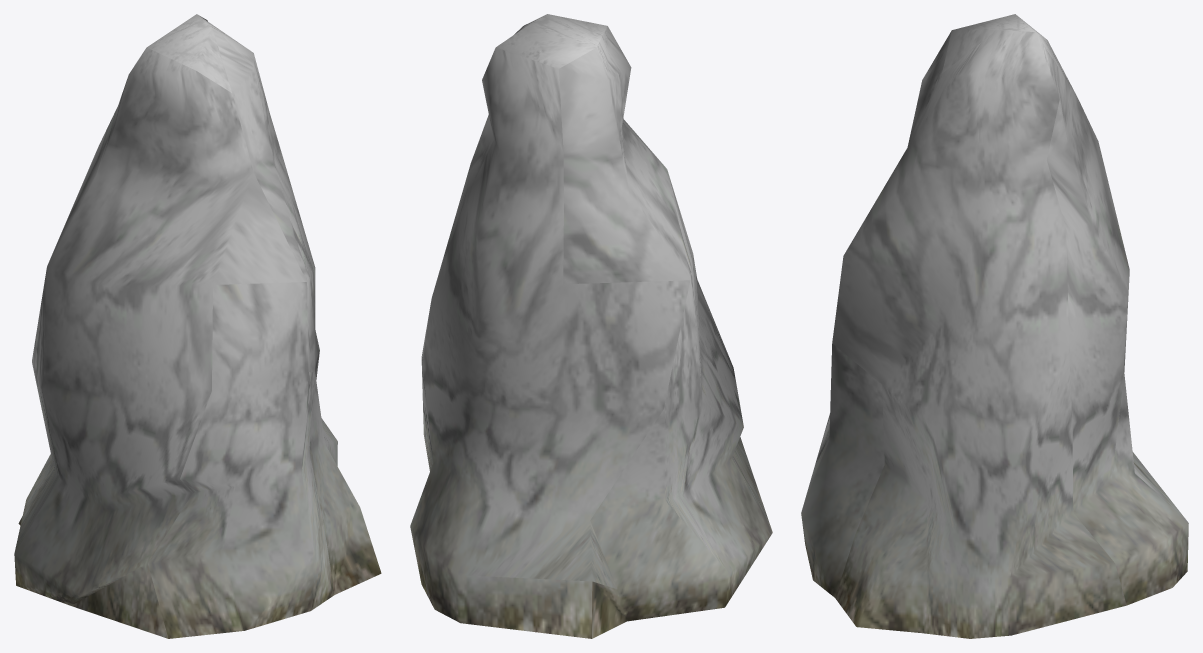
Rendered from general_obj_bigstone10.fbx.
The picture shows the model from 3 angles, left to right: view 1: azimuth 30°, elevation 25°; view 2: azimuth 150°, elevation 25°; view 3: azimuth 270°, elevation 25°; orthographic projection. The views are drawn at different scales.
Visible parts, largest first — view 1: Sphere01fs02; view 2: Sphere01fs02; view 3: Sphere01fs02.
Part boxes in pixels (left/top/right/bottom): Sphere01fs02: left=14, top=14, right=381, bottom=638; Sphere01fs02: left=410, top=14, right=772, bottom=638; Sphere01fs02: left=801, top=14, right=1188, bottom=638.
Bounding box in the file's own units: 13.35 × 21.51 × 13.75.
